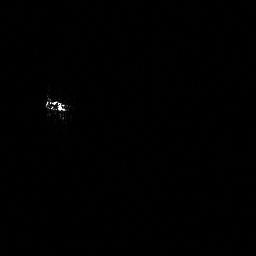ship: (40, 94, 74, 120)
